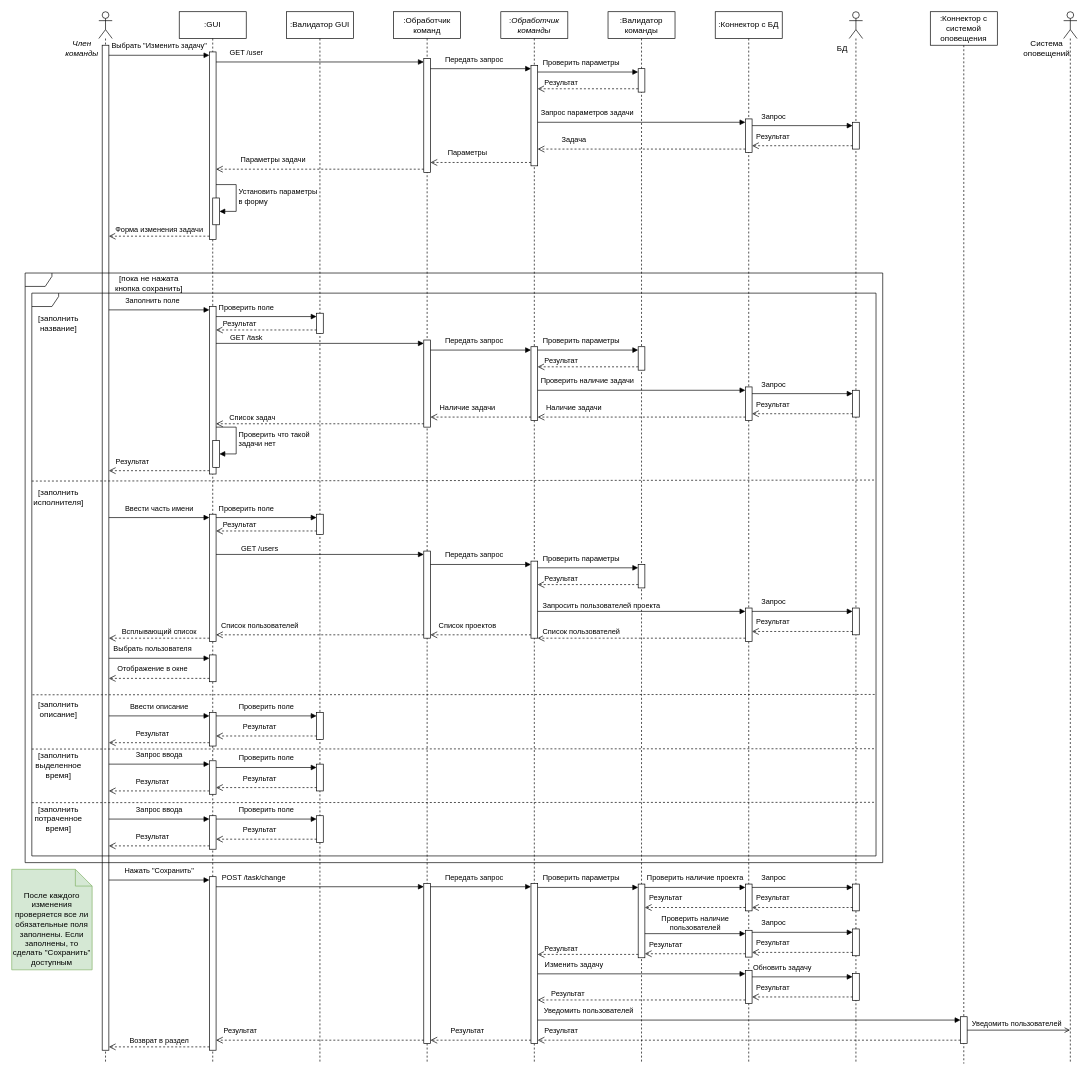
This 1089x1075 diagram has some shape labels left out. The box of each missing label's shape, as (x1, y1, x2, y2) in pixels:
alt: (31, 292, 876, 856)
loop: (24, 272, 883, 863)
